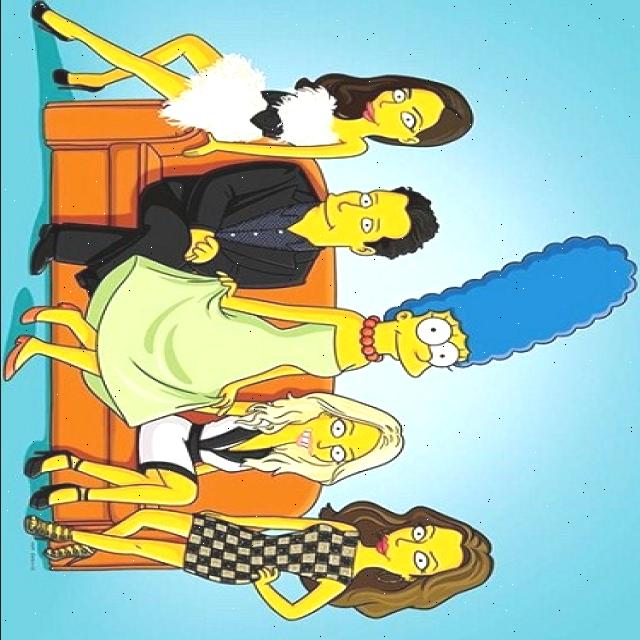Marge Simpson: (358, 230, 640, 382)
